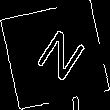N_SW: (25, 23, 85, 87)
